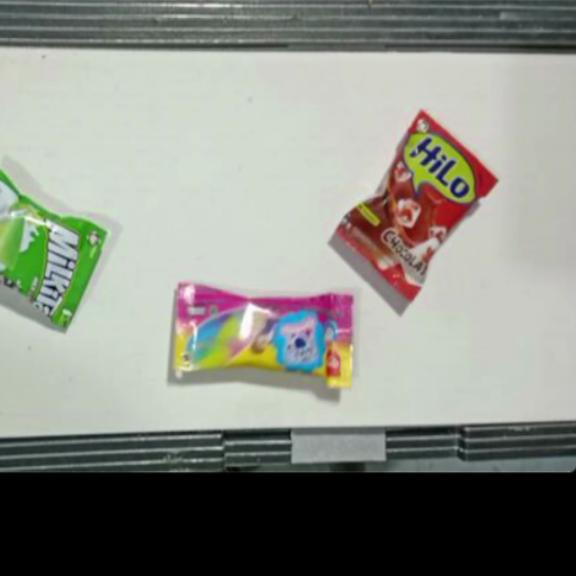Plastik: (336, 110, 499, 303), (170, 281, 354, 388), (0, 169, 107, 333)
